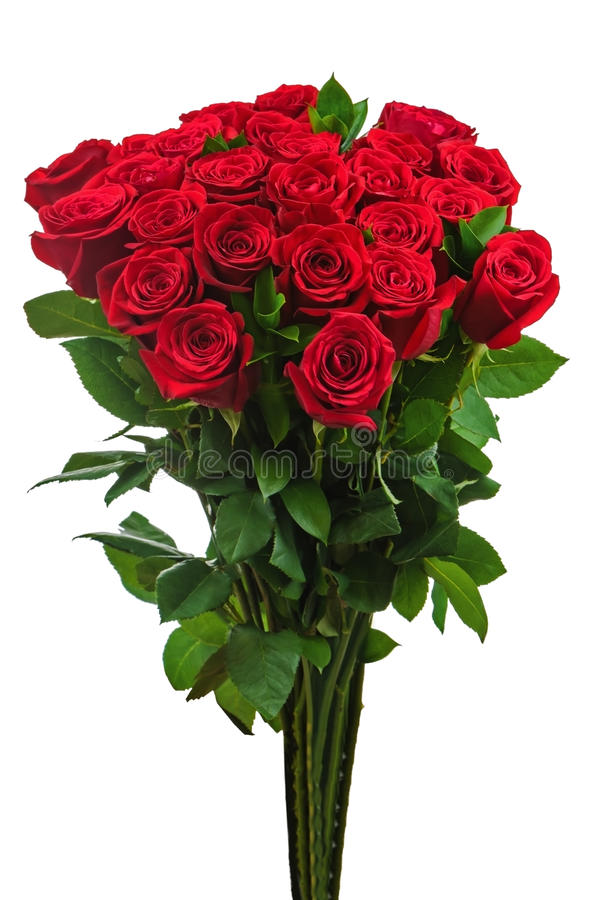RedRose: (451, 233, 571, 354), (282, 313, 402, 430), (20, 181, 136, 292), (137, 301, 253, 402), (270, 221, 381, 318), (353, 238, 446, 346), (95, 242, 196, 336), (14, 125, 112, 220), (195, 200, 292, 295), (428, 141, 523, 211), (274, 154, 360, 226), (342, 141, 429, 202), (131, 178, 208, 245), (404, 179, 503, 230), (372, 101, 481, 144), (360, 196, 441, 253), (184, 147, 274, 197), (119, 123, 216, 166), (109, 149, 184, 200), (267, 123, 339, 166), (240, 105, 300, 155), (252, 81, 324, 111), (184, 101, 249, 129)
